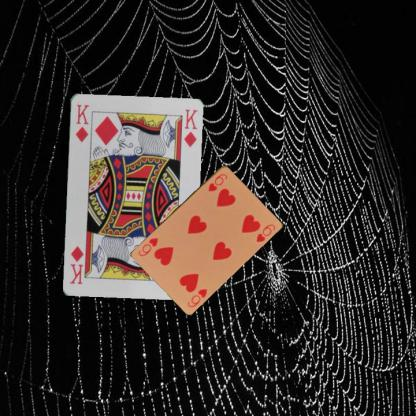6h: (204, 171, 229, 192), (185, 286, 208, 308)
Kd: (73, 102, 90, 142)
